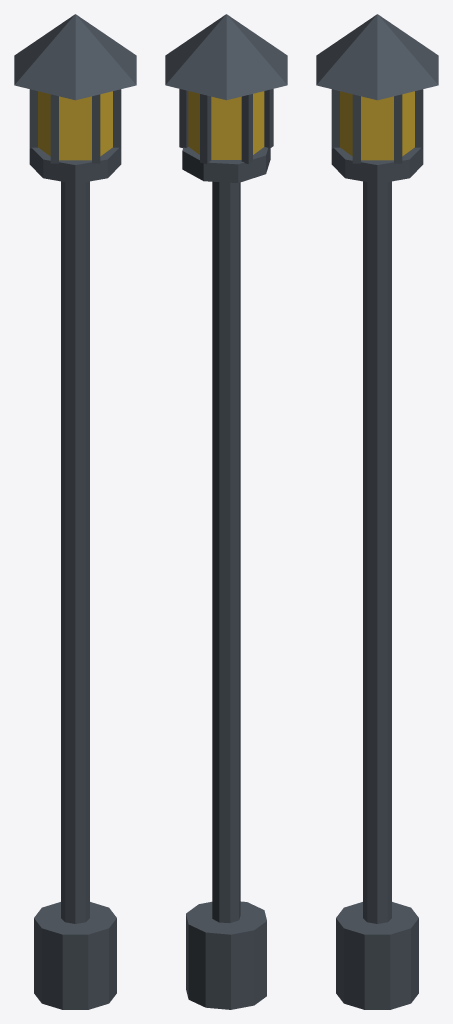
Rendered from streetlight.gltf.
The picture shows the model from 3 angles, left to right: view 1: azimuth 90°, elevation 25°; view 2: azimuth 150°, elevation 25°; view 3: azimuth 270°, elevation 25°; orthographic projection.
Parts seen in each view (by area): view 1: streetlight, lamp; view 2: streetlight, lamp; view 3: streetlight, lamp.
Part boxes in pixels (bbox=[...]): streetlight: bbox=[14, 14, 136, 1009]; lamp: bbox=[38, 91, 112, 160]; streetlight: bbox=[165, 14, 287, 1009]; lamp: bbox=[188, 91, 264, 159]; streetlight: bbox=[316, 14, 438, 1009]; lamp: bbox=[340, 91, 414, 160].
Size of the model in its own units: 0.68 by 5.2 by 0.5889.
